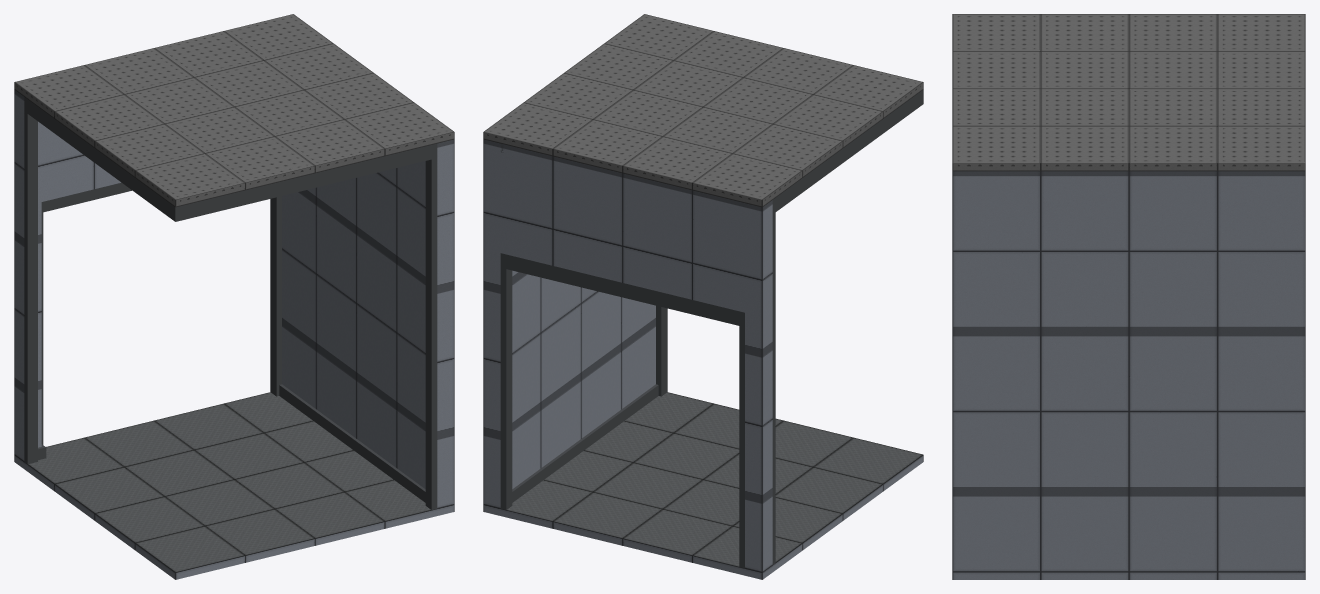
The model's file is Room_SciFi_OpeningCornerR.glb.
3 renders of one model, left to right at view 1: azimuth 30°, elevation 25°; view 2: azimuth 150°, elevation 25°; view 3: azimuth 270°, elevation 25°, orthographic. The views are drawn at different scales.
Visible parts, largest first — view 1: Room_SciFi_OpeningCornerR, Room_SciFi_OpeningCornerR_Ceiling; view 2: Room_SciFi_OpeningCornerR, Room_SciFi_OpeningCornerR_Ceiling; view 3: Room_SciFi_OpeningCornerR, Room_SciFi_OpeningCornerR_Ceiling.
Boxes of the visible parts, x1,y1,x2,y2 form: Room_SciFi_OpeningCornerR: (14, 90, 454, 579); Room_SciFi_OpeningCornerR_Ceiling: (14, 14, 454, 221); Room_SciFi_OpeningCornerR: (483, 139, 923, 579); Room_SciFi_OpeningCornerR_Ceiling: (483, 14, 923, 326); Room_SciFi_OpeningCornerR: (952, 171, 1305, 579); Room_SciFi_OpeningCornerR_Ceiling: (952, 14, 1305, 171).
Bounding box in the file's own units: 4 × 5.2 × 4.
Materials: 6 (3 with a texture image).
